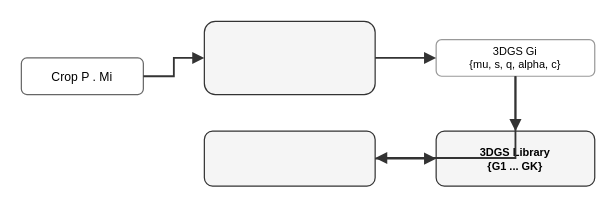
Image size: 616x207. Some labels were removed from this diagram. The shapes that lost their labels are listed below. From the top down, each one's centre as x and y in pixels, then its label:
point 289,57: TripoSplat feed-forward transformer single-view -> 3DGS
point 289,158: Metric Rescale lambda_i = d_i * h_i^px / f
